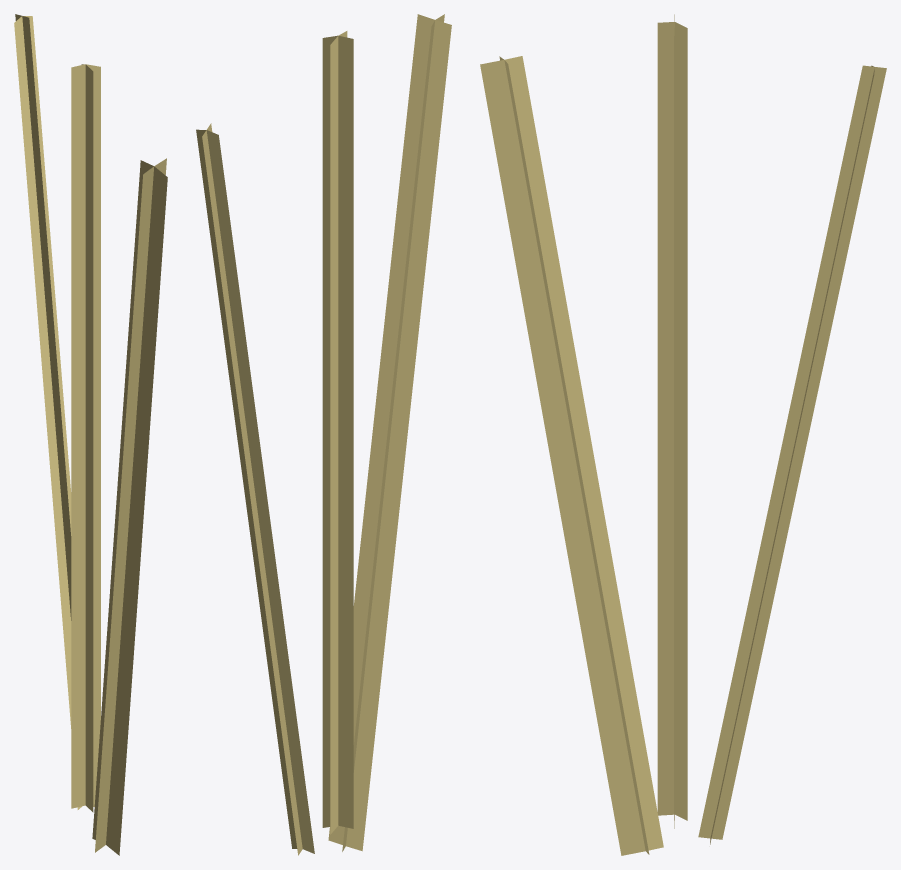
Rendered from Grass03.fbx.
3 renders of one model, left to right at view 1: azimuth 30°, elevation 25°; view 2: azimuth 150°, elevation 25°; view 3: azimuth 270°, elevation 25°, orthographic. The views are drawn at different scales.
Parts seen in each view (by area): view 1: Plane.001; view 2: Plane.001; view 3: Plane.001.
Part boxes in pixels (<box>): Plane.001: <box>14,14,167,855</box>; Plane.001: <box>196,14,451,855</box>; Plane.001: <box>480,14,886,855</box>.
Size of the model in its own units: 1548 by 17709 by 7870.
